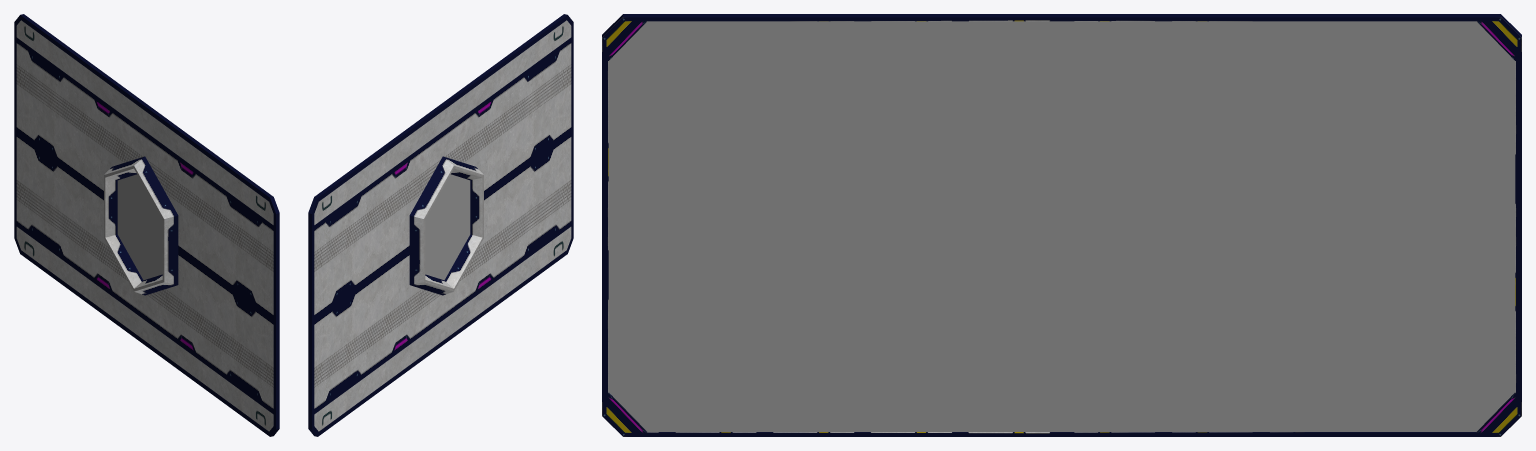
File: Museum_Ad_Projector_01_Art.fbx
3 renders of one model, left to right at view 1: azimuth 30°, elevation 25°; view 2: azimuth 150°, elevation 25°; view 3: azimuth 270°, elevation 25°, orthographic. The views are drawn at different scales.
Parts seen in each view (by area): view 1: Museum_Ad_Projector_01_a; view 2: Museum_Ad_Projector_01_a; view 3: Museum_Ad_Projector_01_a.
Part boxes in pixels (left/top/right/bottom): Museum_Ad_Projector_01_a: left=14, top=14, right=279, bottom=436; Museum_Ad_Projector_01_a: left=308, top=14, right=573, bottom=436; Museum_Ad_Projector_01_a: left=602, top=14, right=1521, bottom=436.
Bounding box in the file's own units: 30.45 × 469 × 932.
Materials: 3 (1 with a texture image).
